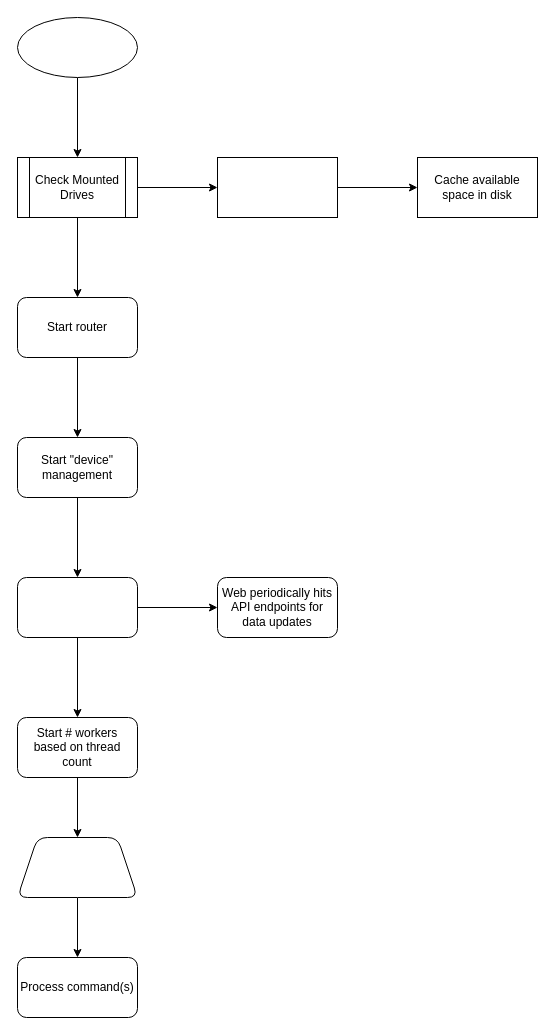
The diagram is 555 pixels wide and 1035 high, and some of its shapes have lost their labels. Each missing label, with the centre of its shape:
Ensure mounted and writeable: (277,187)
Start: (77,47)
Start web handlers: (77,607)
Wait for user commands (skip for CLI with inputs): (77,867)
